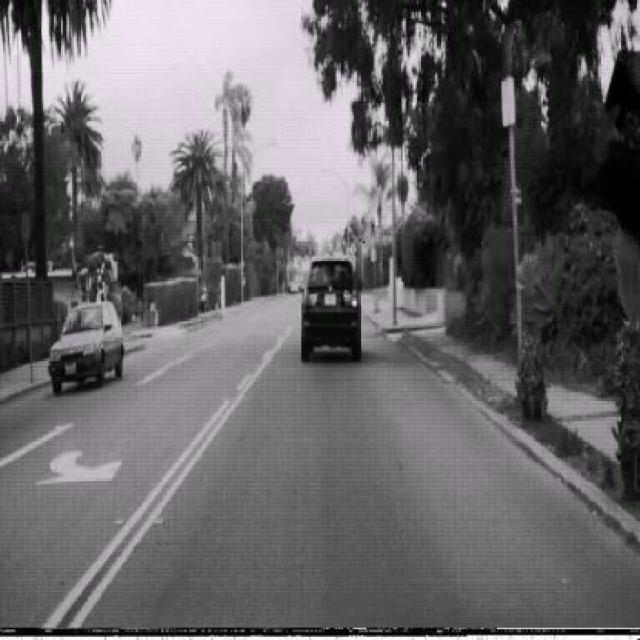pedestrianCrossing: (363, 214, 380, 246)
